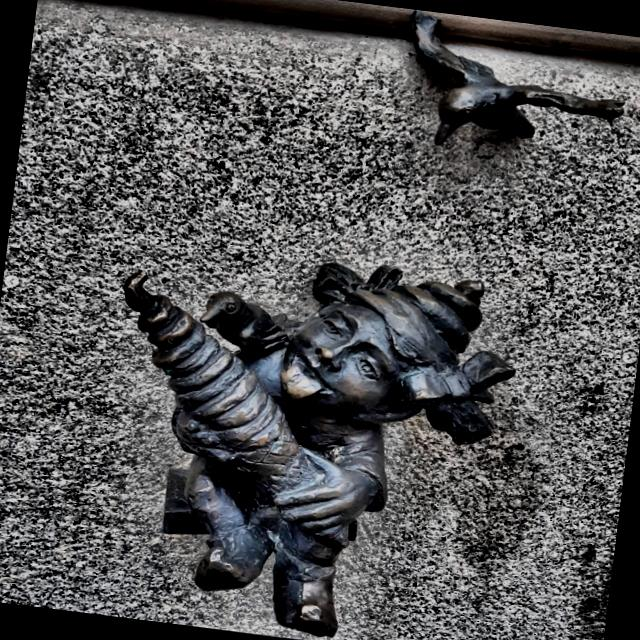Dziupelka: (123, 262, 516, 639), (409, 11, 624, 144)
